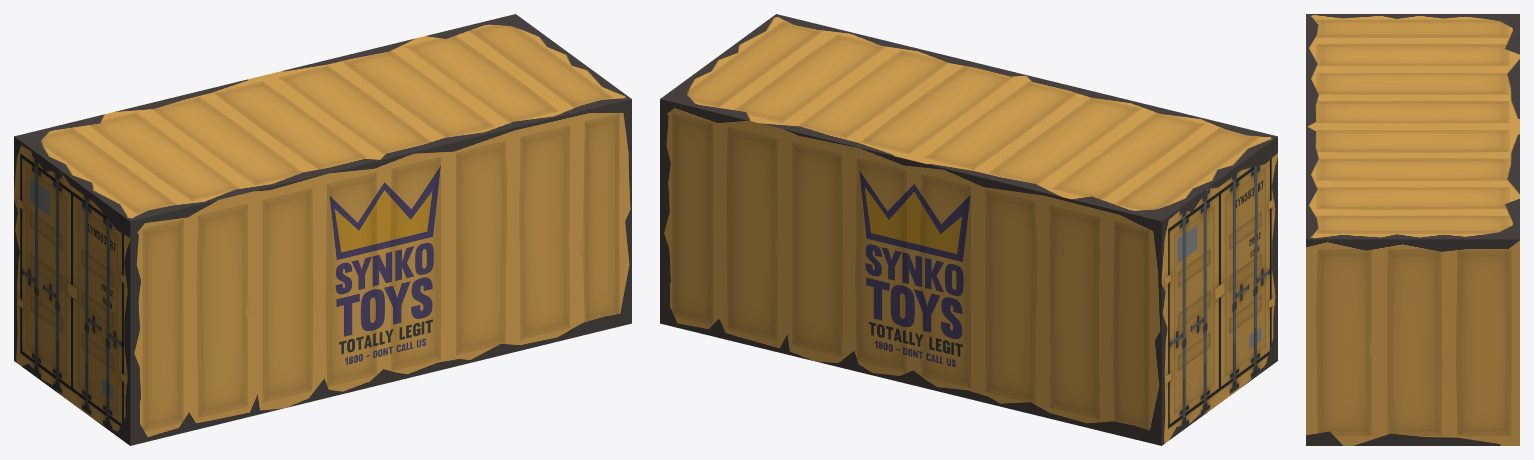
The model's file is SM_Prop_Container_02.fbx.
The picture shows the model from 3 angles, left to right: view 1: azimuth 30°, elevation 25°; view 2: azimuth 150°, elevation 25°; view 3: azimuth 270°, elevation 25°; orthographic projection. The views are drawn at different scales.
Parts seen in each view (by area): view 1: SM_Prop_Container_02; view 2: SM_Prop_Container_02; view 3: SM_Prop_Container_02.
Boxes of the visible parts, <box> form: SM_Prop_Container_02: <box>14,14,631,445</box>; SM_Prop_Container_02: <box>660,14,1277,445</box>; SM_Prop_Container_02: <box>1306,14,1519,445</box>.
Size of the model in its own units: 606 by 259 by 243.
